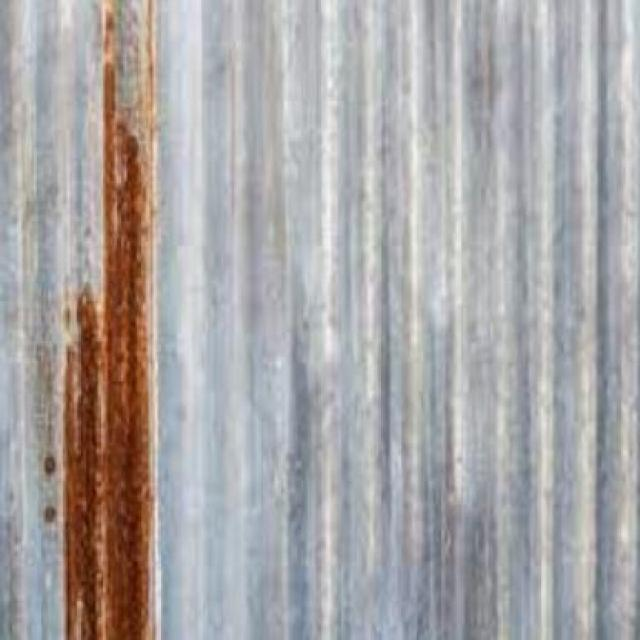Corrosion: (68, 10, 156, 638), (40, 452, 60, 480), (40, 502, 58, 528)
